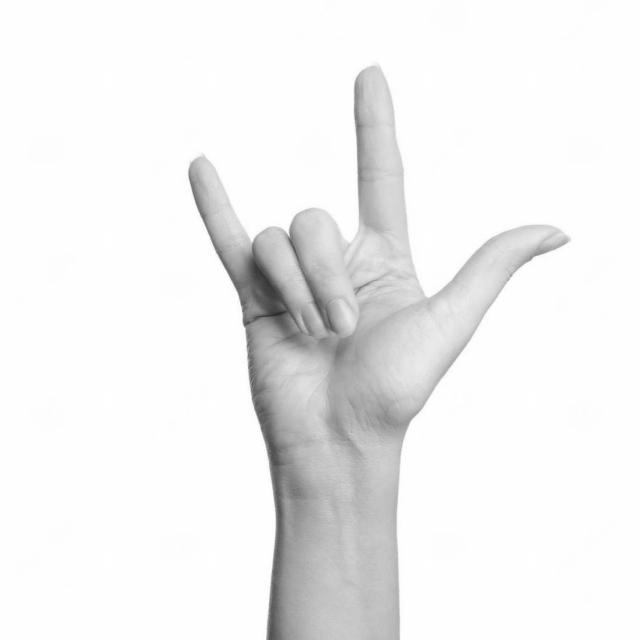i love you: (178, 54, 576, 491)
